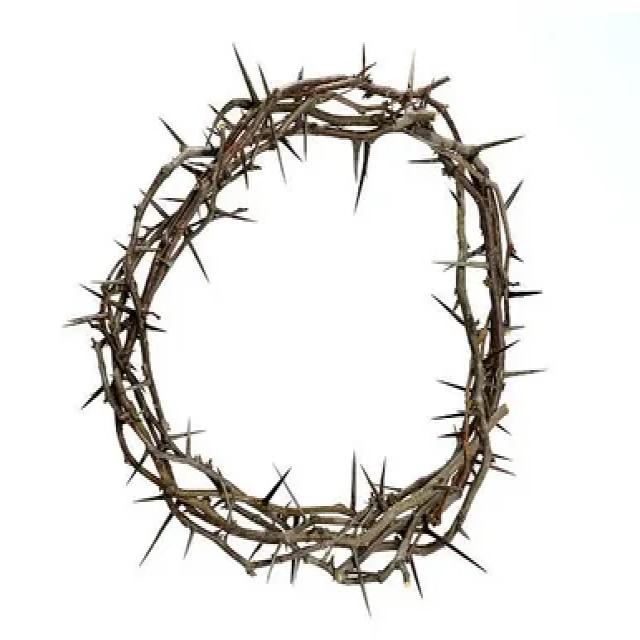crown: (89, 56, 532, 594)
